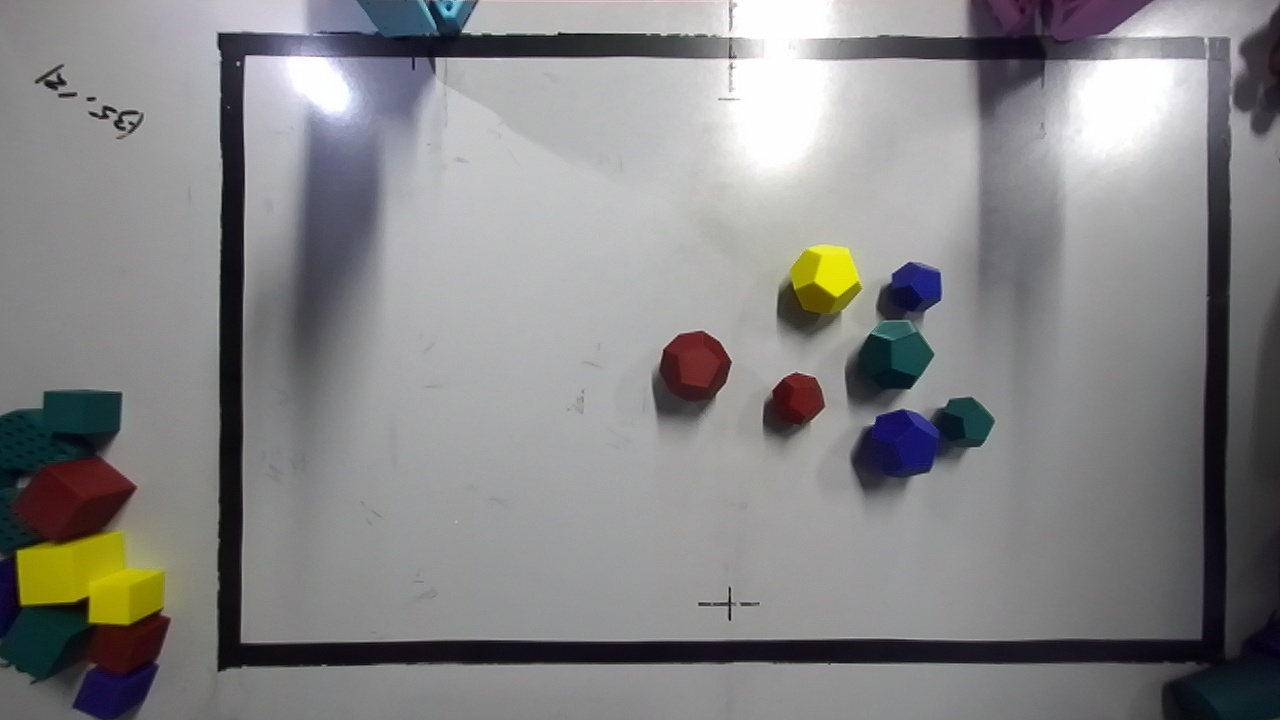dodecahedron: (862, 409, 939, 476), (859, 320, 933, 388), (659, 331, 731, 400), (789, 244, 861, 312), (931, 397, 994, 446), (771, 372, 824, 423), (888, 261, 941, 310)
